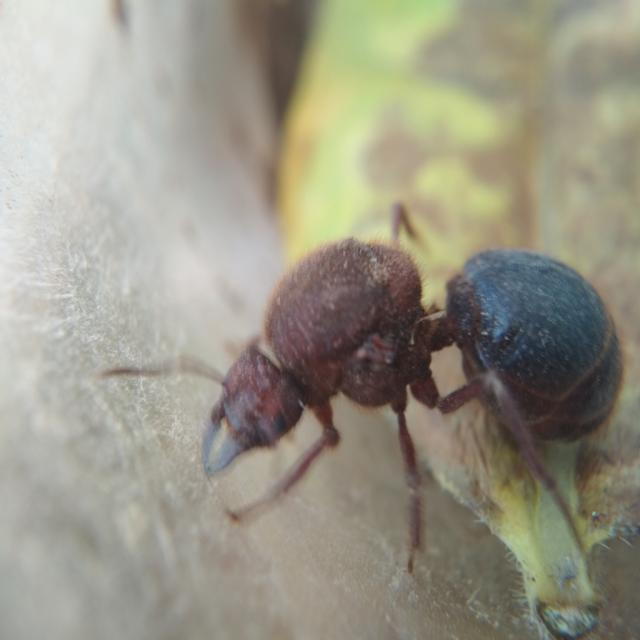Alive-Female-Dealate: (93, 198, 628, 584)
